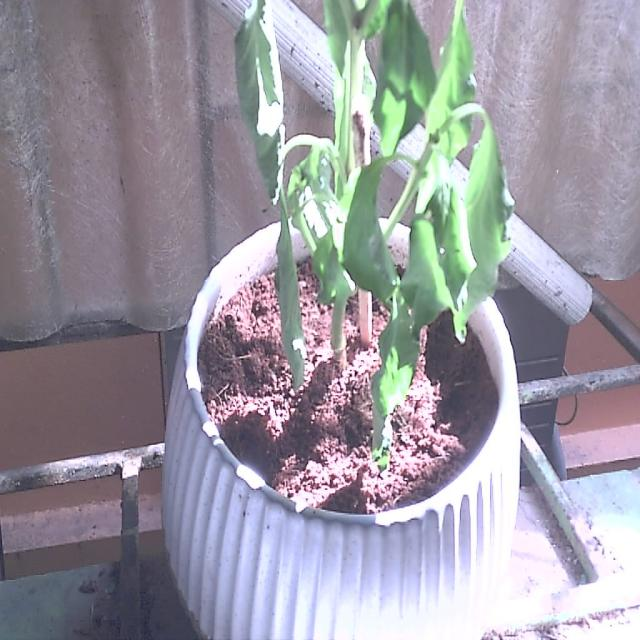Leaf: (460, 128, 512, 317), (338, 156, 402, 302), (237, 7, 284, 198), (275, 199, 306, 389)
